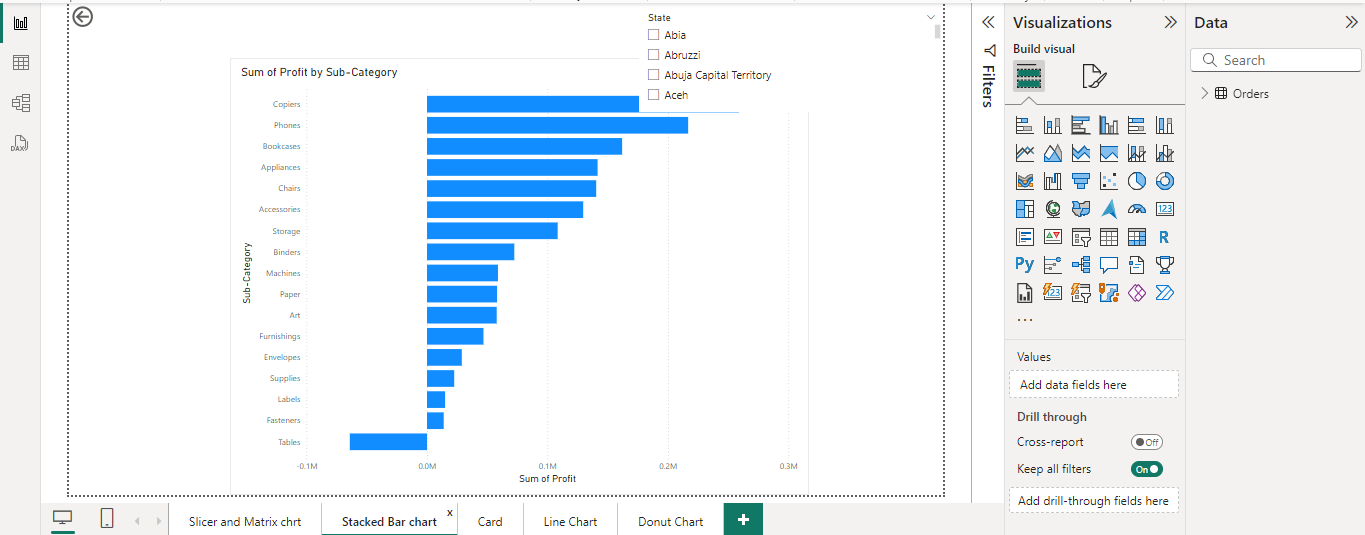

This screenshot's page, from the dashboard's own definition file:
{"tool":"powerbi","page":{"name":"Stacked Bar chart","canvas":[1280,720],"ordinal":1},"visuals":[{"type":"barChart","fields":{"Category":["Orders.Sub-Category"],"Y":["Sum(Orders.Profit)"]},"box":[235.6,80.5,847.3,639.5],"z":0},{"type":"slicer","fields":{"Values":["Orders.State"]},"box":[833.7,8.8,446.3,150.7],"z":1000},{"type":"actionButton","box":[0,0,100,40],"z":2000}]}

Visuals, with their boxes on the page's 1280x720 design canvas (x1, y1, x2, y2). These are canvas units, not pixel positions in the 1365x535 screenshot, which may show the page scaled, cropped or inside an application window:
barChart - Orders.Sub-Category x Sum(Orders.Profit): bbox(236, 80, 1083, 720)
slicer - Orders.State: bbox(834, 9, 1280, 160)
actionButton: bbox(0, 0, 100, 40)
